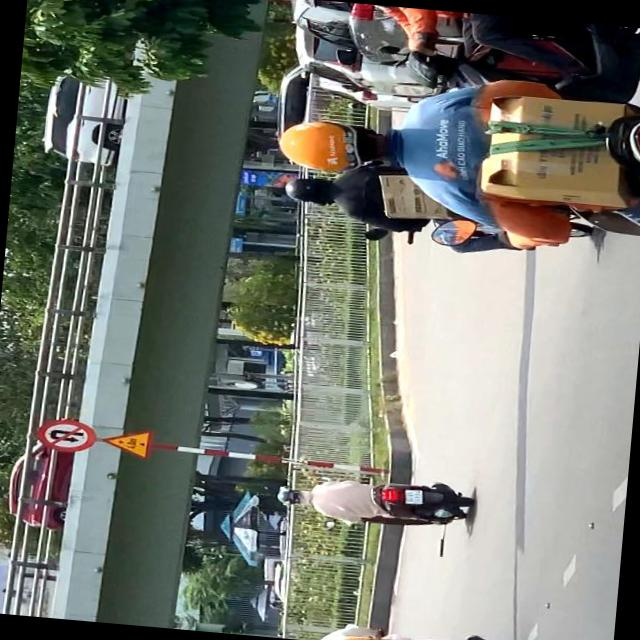P-124a1: (37, 418, 95, 452)
W-239b: (101, 428, 150, 457)
